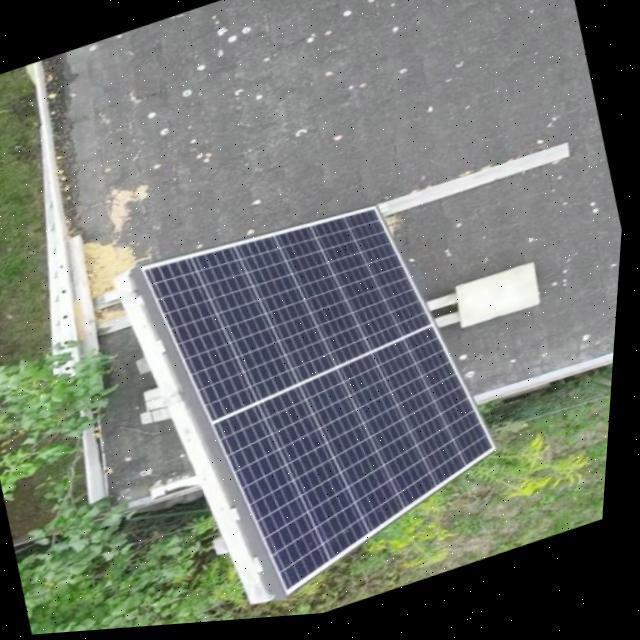Normal Solar Panel: (130, 170, 530, 618)
